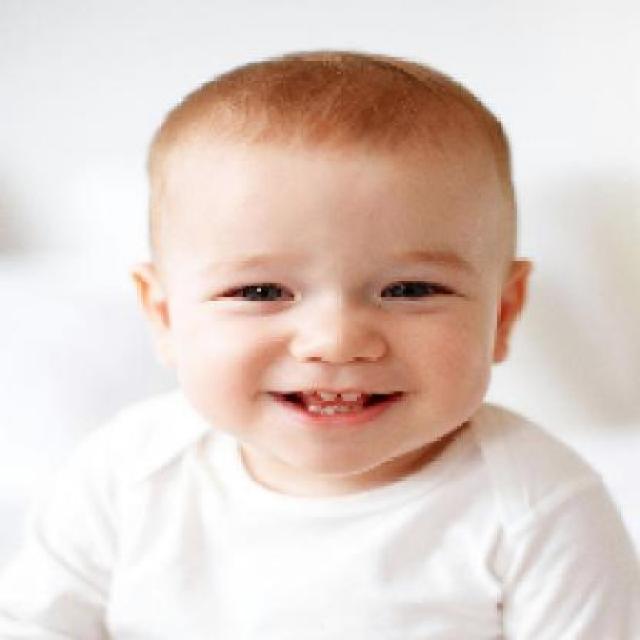child: (0, 47, 638, 638)
